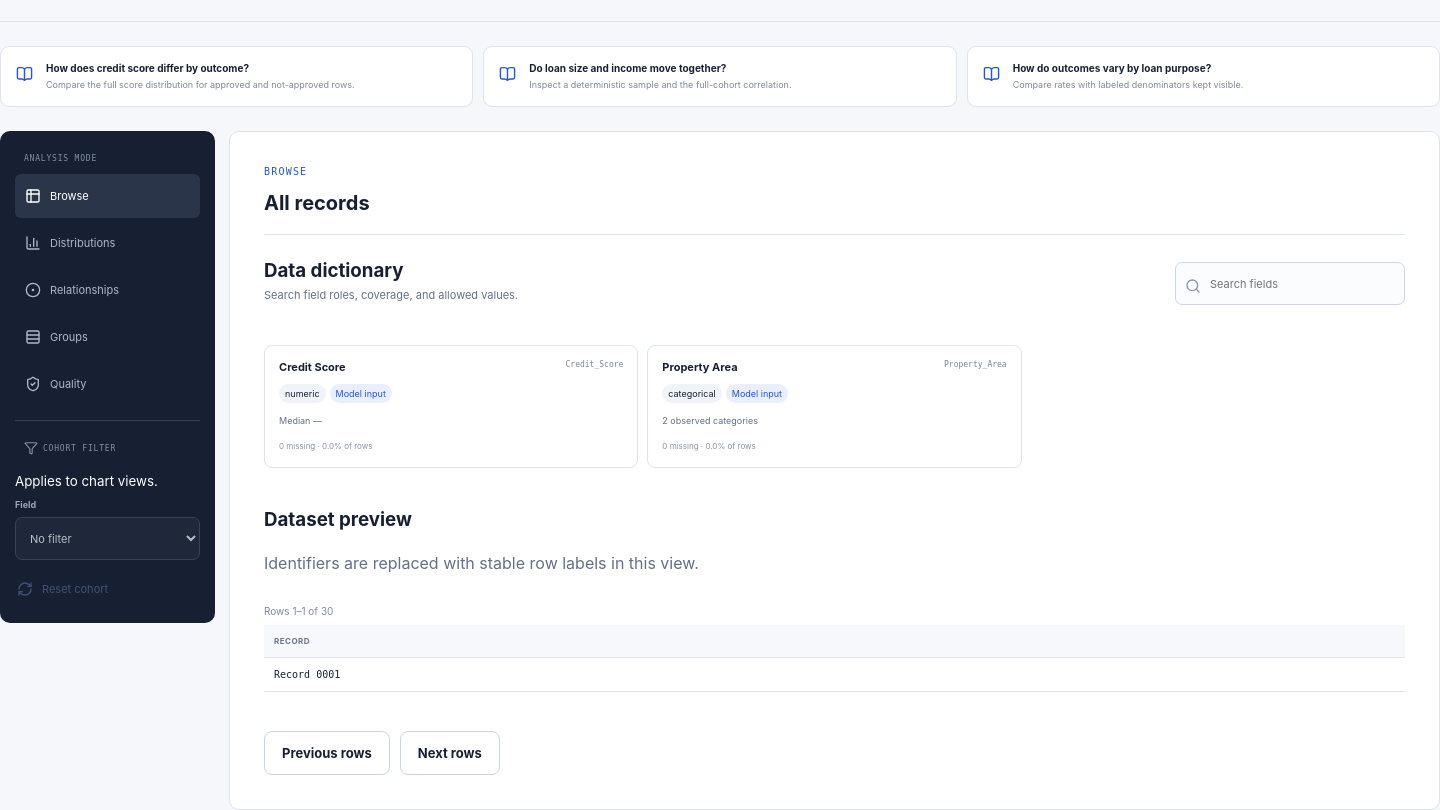
Test: Dataset explorer regressions › paginates rows and keeps preview failures out of other modes
This screenshot has width=1440, height=810.
(page scrolled)
Expected: the text "Record 0001" is shown, [264, 658, 1405, 692]
Click the button "Next rows".
click(450, 753)  # box [400, 731, 500, 775]
(page scrolled)
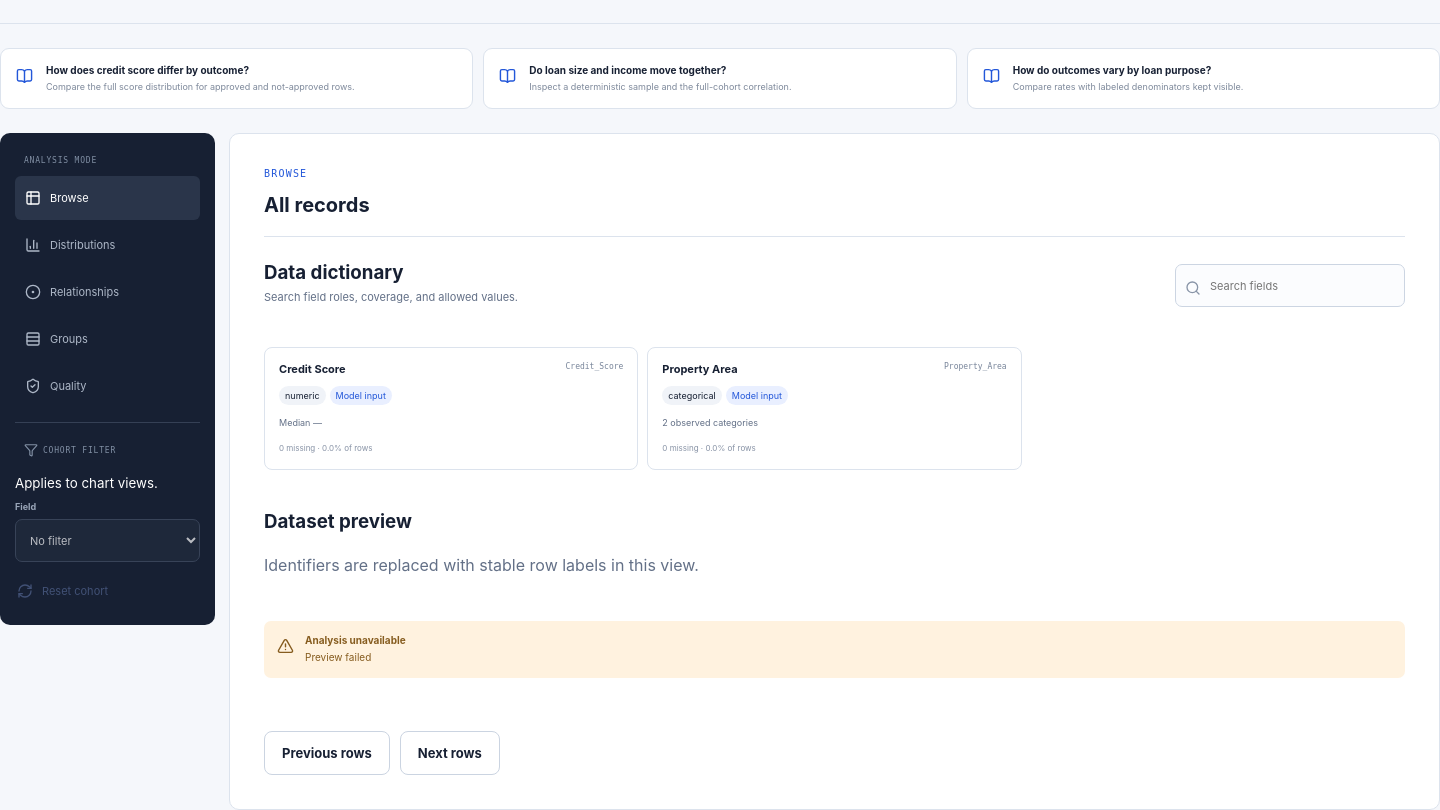
Now the text "Preview failed" is shown, box [305, 651, 371, 663]
Click the button "Quality".
click(108, 386)  # box [15, 364, 200, 408]
(page scrolled)
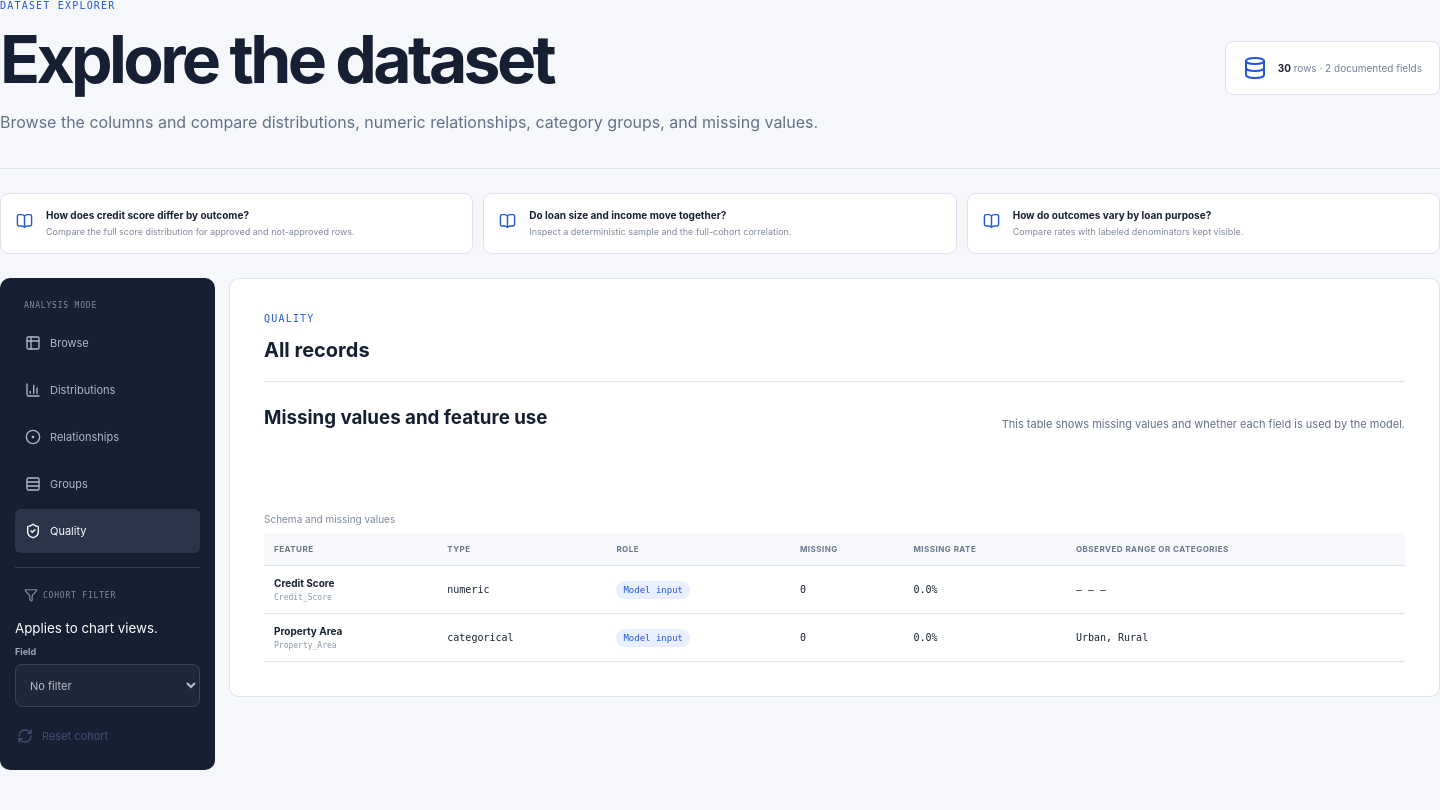
Now the heading "Missing values and feature use" is shown, box [264, 406, 548, 429]
Now the text "Preview failed" is gone
